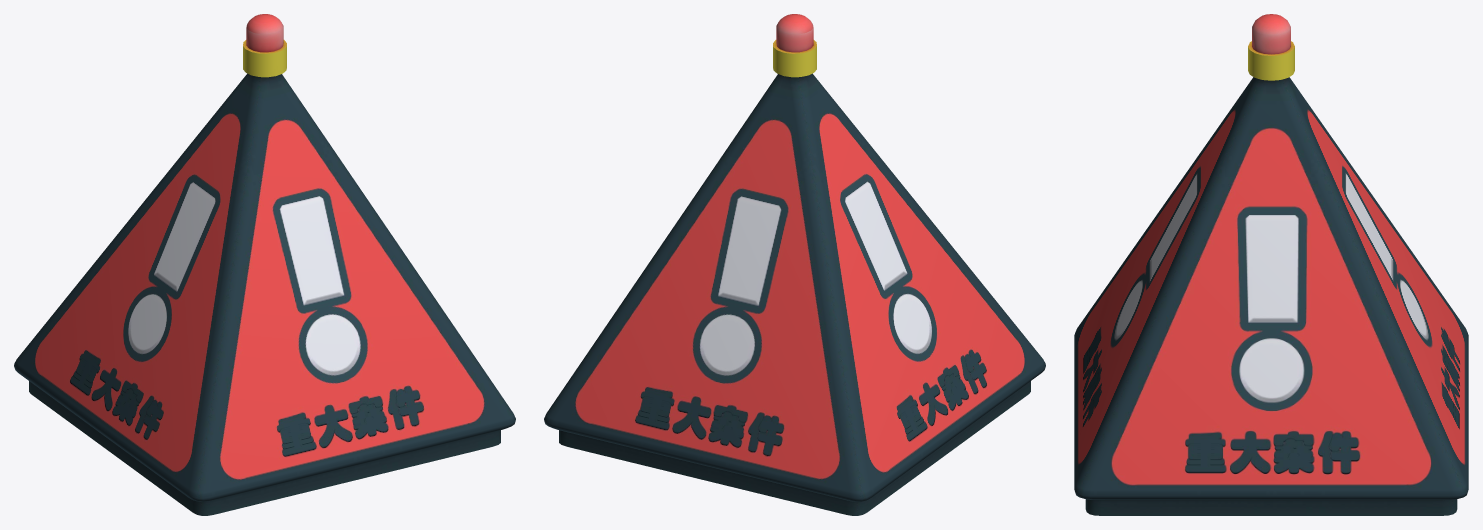
3 views of the same model, side by side, from view 1: azimuth 30°, elevation 25°; view 2: azimuth 150°, elevation 25°; view 3: azimuth 270°, elevation 25° (orthographic). The views are drawn at different scales.
Visible parts, largest first — view 1: 重大案件; view 2: 重大案件; view 3: 重大案件.
Part boxes in pixels (x1,y1,x2,y2): 重大案件: [14, 14, 515, 515]; 重大案件: [544, 14, 1045, 515]; 重大案件: [1074, 14, 1468, 515].
Bounding box in the file's own units: 0.9766 × 1.15 × 0.9766.
1 material, 1 textured.
